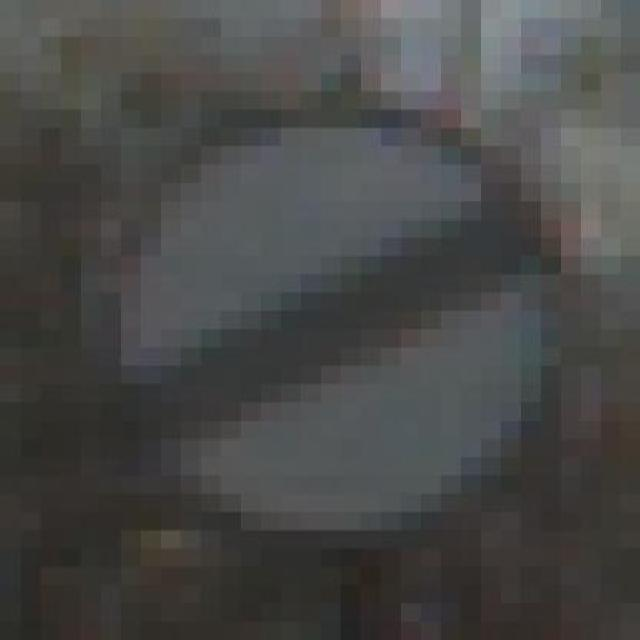End of all speed and passing limits: (80, 73, 580, 567)
